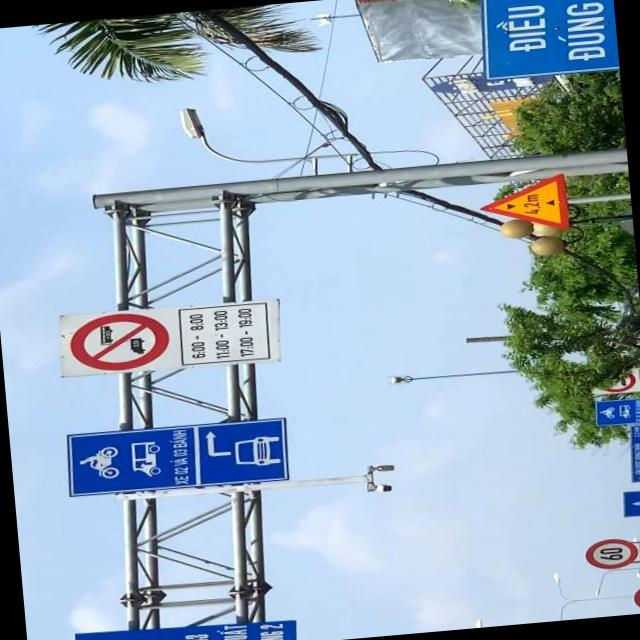W-239b: (476, 172, 569, 236)
